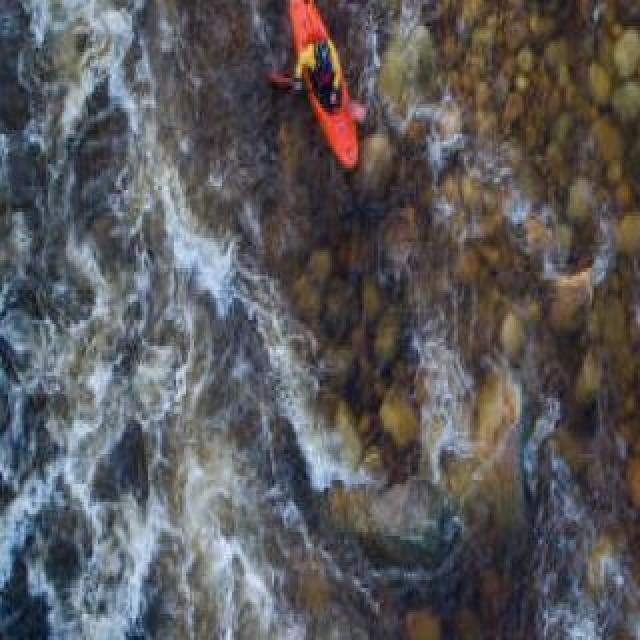kayak: (289, 0, 353, 167)
